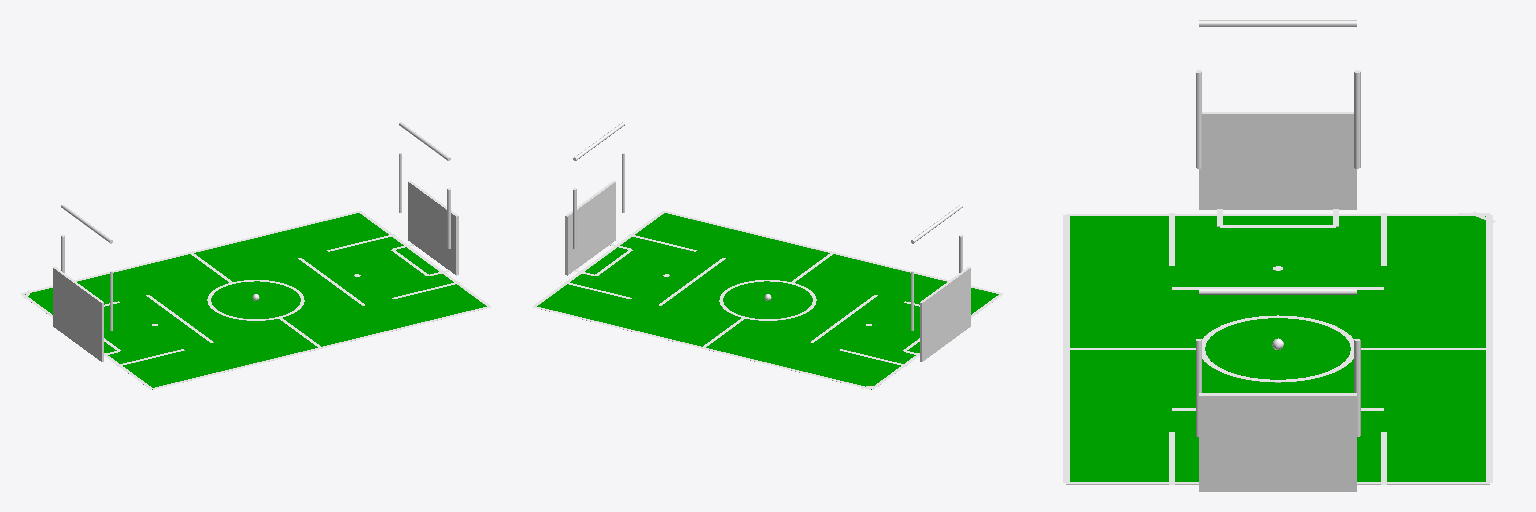
The robot description file, URDF, robot "T1_Soccer_Realistic_Optimized":
<?xml version="1.0" encoding="utf-8"?>
<robot name="T1_Soccer_Realistic_Optimized">
  <!-- 世界链接 -->
  <link name="world"/>

  <!-- 足球场地面 -->
  <link name="field_base">
    <inertial>
      <origin xyz="0 0 0" rpy="0 0 0" />
      <mass value="0" />
      <inertia ixx="0" ixy="0" ixz="0" iyy="0" iyz="0" izz="0" />
    </inertial>
    <visual>
      <origin xyz="0 0 0" rpy="0 0 0" />
      <geometry>
        <box size="12 8 0.01" />
      </geometry>
      <material name="green">
        <color rgba="0.0 0.7 0.0 1.0" />
      </material>
    </visual>
    <collision>
      <origin xyz="0 0 0" rpy="0 0 0" />
      <geometry>
        <box size="12 8 0.01" />
      </geometry>
    </collision>
  </link>
  <joint name="world_to_field" type="fixed">
    <parent link="world"/>
    <child link="field_base"/>
    <origin xyz="0 0 0" rpy="0 0 0"/>
  </joint>

  <!-- 边线和底线（0.12m宽） -->
  <link name="sideline_left">
    <visual>
      <origin xyz="0 4 0.011" rpy="0 0 0" />
      <geometry>
        <box size="12 0.12 0.002" />
      </geometry>
      <material name="white">
        <color rgba="1 1 1 1" />
      </material>
    </visual>
  </link>
  <joint name="field_to_sideline_left" type="fixed">
    <parent link="field_base"/>
    <child link="sideline_left"/>
    <origin xyz="0 0 0" rpy="0 0 0"/>
  </joint>
  <link name="sideline_right">
    <visual>
      <origin xyz="0 -4 0.011" rpy="0 0 0" />
      <geometry>
        <box size="12 0.12 0.002" />
      </geometry>
      <material name="white">
        <color rgba="1 1 1 1" />
      </material>
    </visual>
  </link>
  <joint name="field_to_sideline_right" type="fixed">
    <parent link="field_base"/>
    <child link="sideline_right"/>
    <origin xyz="0 0 0" rpy="0 0 0"/>
  </joint>
  <link name="goal_line_top">
    <visual>
      <origin xyz="6 0 0.011" rpy="0 0 1.5708" />
      <geometry>
        <box size="8 0.12 0.002" />
      </geometry>
      <material name="white">
        <color rgba="1 1 1 1" />
      </material>
    </visual>
  </link>
  <joint name="field_to_goal_line_top" type="fixed">
    <parent link="field_base"/>
    <child link="goal_line_top"/>
    <origin xyz="0 0 0" rpy="0 0 0"/>
  </joint>
  <link name="goal_line_bottom">
    <visual>
      <origin xyz="-6 0 0.011" rpy="0 0 1.5708" />
      <geometry>
        <box size="8 0.12 0.002" />
      </geometry>
      <material name="white">
        <color rgba="1 1 1 1" />
      </material>
    </visual>
  </link>
  <joint name="field_to_goal_line_bottom" type="fixed">
    <parent link="field_base"/>
    <child link="goal_line_bottom"/>
    <origin xyz="0 0 0" rpy="0 0 0"/>
  </joint>

  <!-- 中线（0.12m宽） -->
  <link name="center_line">
    <visual>
      <origin xyz="0 0 0.011" rpy="0 0 0" />
      <geometry>
        <box size="0.12 8 0.002" />
      </geometry>
      <material name="white">
        <color rgba="1 1 1 1" />
      </material>
    </visual>
  </link>
  <joint name="field_to_center_line" type="fixed">
    <parent link="field_base"/>
    <child link="center_line"/>
    <origin xyz="0 0 0" rpy="0 0 0"/>
  </joint>

  <!-- 中心圆（空心圆环，外圈1.5m，内圈1.38m） -->
  <link name="center_circle_outer">
    <visual>
      <origin xyz="0 0 0.011" rpy="0 0 0" />
      <geometry>
        <cylinder radius="1.5" length="0.002" />
      </geometry>
      <material name="white">
        <color rgba="1 1 1 1" />
      </material>
    </visual>
  </link>
  <joint name="field_to_center_circle_outer" type="fixed">
    <parent link="field_base"/>
    <child link="center_circle_outer"/>
    <origin xyz="0 0 0" rpy="0 0 0"/>
  </joint>
  <link name="center_circle_inner">
    <visual>
      <origin xyz="0 0 0.012" rpy="0 0 0" />
      <geometry>
        <cylinder radius="1.38" length="0.002" />
      </geometry>
      <material name="green">
        <color rgba="0.0 0.7 0.0 1.0" />
      </material>
    </visual>
  </link>
  <joint name="field_to_center_circle_inner" type="fixed">
    <parent link="field_base"/>
    <child link="center_circle_inner"/>
    <origin xyz="0 0 0" rpy="0 0 0"/>
  </joint>

  <!-- 点球点（0.1m半径） -->
  <link name="penalty_spot_left">
    <visual>
      <origin xyz="-3.6 0 0.012" rpy="0 0 0" />
      <geometry>
        <cylinder radius="0.1" length="0.002" />
      </geometry>
      <material name="white">
        <color rgba="1 1 1 1" />
      </material>
    </visual>
  </link>
  <joint name="field_to_penalty_spot_left" type="fixed">
    <parent link="field_base"/>
    <child link="penalty_spot_left"/>
    <origin xyz="0 0 0" rpy="0 0 0"/>
  </joint>
  <link name="penalty_spot_right">
    <visual>
      <origin xyz="3.6 0 0.012" rpy="0 0 0" />
      <geometry>
        <cylinder radius="0.1" length="0.002" />
      </geometry>
      <material name="white">
        <color rgba="1 1 1 1" />
      </material>
    </visual>
  </link>
  <joint name="field_to_penalty_spot_right" type="fixed">
    <parent link="field_base"/>
    <child link="penalty_spot_right"/>
    <origin xyz="0 0 0" rpy="0 0 0"/>
  </joint>

  <!-- 罚球区（用box拼接，线宽0.12m） -->
  <!-- 左罚球区 -->
  <link name="penalty_box_left_top">
    <visual>
      <origin xyz="-4.9 2 0.011" rpy="0 0 0" />
      <geometry>
        <box size="2.4 0.12 0.002" />
      </geometry>
      <material name="white">
        <color rgba="1 1 1 1" />
      </material>
    </visual>
  </link>
  <joint name="field_to_penalty_box_left_top" type="fixed">
    <parent link="field_base"/>
    <child link="penalty_box_left_top"/>
    <origin xyz="0 0 0" rpy="0 0 0"/>
  </joint>
  <link name="penalty_box_left_bottom">
    <visual>
      <origin xyz="-4.9 -2 0.011" rpy="0 0 0" />
      <geometry>
        <box size="2.4 0.12 0.002" />
      </geometry>
      <material name="white">
        <color rgba="1 1 1 1" />
      </material>
    </visual>
  </link>
  <joint name="field_to_penalty_box_left_bottom" type="fixed">
    <parent link="field_base"/>
    <child link="penalty_box_left_bottom"/>
    <origin xyz="0 0 0" rpy="0 0 0"/>
  </joint>
  <link name="penalty_box_left_left">
    <visual>
      <origin xyz="-6 0 0.011" rpy="0 0 0" />
      <geometry>
        <box size="0.12 4 0.002" />
      </geometry>
      <material name="white">
        <color rgba="1 1 1 1" />
      </material>
    </visual>
  </link>
  <joint name="field_to_penalty_box_left_left" type="fixed">
    <parent link="field_base"/>
    <child link="penalty_box_left_left"/>
    <origin xyz="0 0 0" rpy="0 0 0"/>
  </joint>
  <link name="penalty_box_left_right">
    <visual>
      <origin xyz="-2.7 0 0.011" rpy="0 0 0" />
      <geometry>
        <box size="0.12 4 0.002" />
      </geometry>
      <material name="white">
        <color rgba="1 1 1 1" />
      </material>
    </visual>
  </link>
  <joint name="field_to_penalty_box_left_right" type="fixed">
    <parent link="field_base"/>
    <child link="penalty_box_left_right"/>
    <origin xyz="0 0 0" rpy="0 0 0"/>
  </joint>
  <!-- 右罚球区同理 -->
  <link name="penalty_box_right_top">
    <visual>
      <origin xyz="4.9 2 0.011" rpy="0 0 0" />
      <geometry>
        <box size="2.4 0.12 0.002" />
      </geometry>
      <material name="white">
        <color rgba="1 1 1 1" />
      </material>
    </visual>
  </link>
  <joint name="field_to_penalty_box_right_top" type="fixed">
    <parent link="field_base"/>
    <child link="penalty_box_right_top"/>
    <origin xyz="0 0 0" rpy="0 0 0"/>
  </joint>
  <link name="penalty_box_right_bottom">
    <visual>
      <origin xyz="4.9 -2 0.011" rpy="0 0 0" />
      <geometry>
        <box size="2.4 0.12 0.002" />
      </geometry>
      <material name="white">
        <color rgba="1 1 1 1" />
      </material>
    </visual>
  </link>
  <joint name="field_to_penalty_box_right_bottom" type="fixed">
    <parent link="field_base"/>
    <child link="penalty_box_right_bottom"/>
    <origin xyz="0 0 0" rpy="0 0 0"/>
  </joint>
  <link name="penalty_box_right_left">
    <visual>
      <origin xyz="2.7 0 0.011" rpy="0 0 0" />
      <geometry>
        <box size="0.12 4 0.002" />
      </geometry>
      <material name="white">
        <color rgba="1 1 1 1" />
      </material>
    </visual>
  </link>
  <joint name="field_to_penalty_box_right_left" type="fixed">
    <parent link="field_base"/>
    <child link="penalty_box_right_left"/>
    <origin xyz="0 0 0" rpy="0 0 0"/>
  </joint>
  <link name="penalty_box_right_right">
    <visual>
      <origin xyz="6 0 0.011" rpy="0 0 0" />
      <geometry>
        <box size="0.12 4 0.002" />
      </geometry>
      <material name="white">
        <color rgba="1 1 1 1" />
      </material>
    </visual>
  </link>
  <joint name="field_to_penalty_box_right_right" type="fixed">
    <parent link="field_base"/>
    <child link="penalty_box_right_right"/>
    <origin xyz="0 0 0" rpy="0 0 0"/>
  </joint>

  <!-- 球门区（用box拼接，线宽0.12m） -->
  <!-- 左球门区 -->
  <link name="goal_box_left_top">
    <visual>
      <origin xyz="-5.88 1.1 0.011" rpy="0 0 0" />
      <geometry>
        <box size="0.8 0.12 0.002" />
      </geometry>
      <material name="white">
        <color rgba="1 1 1 1" />
      </material>
    </visual>
  </link>
  <joint name="field_to_goal_box_left_top" type="fixed">
    <parent link="field_base"/>
    <child link="goal_box_left_top"/>
    <origin xyz="0 0 0" rpy="0 0 0"/>
  </joint>
  <link name="goal_box_left_bottom">
    <visual>
      <origin xyz="-5.88 -1.1 0.011" rpy="0 0 0" />
      <geometry>
        <box size="0.8 0.12 0.002" />
      </geometry>
      <material name="white">
        <color rgba="1 1 1 1" />
      </material>
    </visual>
  </link>
  <joint name="field_to_goal_box_left_bottom" type="fixed">
    <parent link="field_base"/>
    <child link="goal_box_left_bottom"/>
    <origin xyz="0 0 0" rpy="0 0 0"/>
  </joint>
  <link name="goal_box_left_left">
    <visual>
      <origin xyz="-6 0 0.011" rpy="0 0 0" />
      <geometry>
        <box size="0.12 2.2 0.002" />
      </geometry>
      <material name="white">
        <color rgba="1 1 1 1" />
      </material>
    </visual>
  </link>
  <joint name="field_to_goal_box_left_left" type="fixed">
    <parent link="field_base"/>
    <child link="goal_box_left_left"/>
    <origin xyz="0 0 0" rpy="0 0 0"/>
  </joint>
  <link name="goal_box_left_right">
    <visual>
      <origin xyz="-5.48 0 0.011" rpy="0 0 0" />
      <geometry>
        <box size="0.12 2.2 0.002" />
      </geometry>
      <material name="white">
        <color rgba="1 1 1 1" />
      </material>
    </visual>
  </link>
  <joint name="field_to_goal_box_left_right" type="fixed">
    <parent link="field_base"/>
    <child link="goal_box_left_right"/>
    <origin xyz="0 0 0" rpy="0 0 0"/>
  </joint>
  <!-- 右球门区同理 -->
  <link name="goal_box_right_top">
    <visual>
      <origin xyz="5.88 1.1 0.011" rpy="0 0 0" />
      <geometry>
        <box size="0.8 0.12 0.002" />
      </geometry>
      <material name="white">
        <color rgba="1 1 1 1" />
      </material>
    </visual>
  </link>
  <joint name="field_to_goal_box_right_top" type="fixed">
    <parent link="field_base"/>
    <child link="goal_box_right_top"/>
    <origin xyz="0 0 0" rpy="0 0 0"/>
  </joint>
  <link name="goal_box_right_bottom">
    <visual>
      <origin xyz="5.88 -1.1 0.011" rpy="0 0 0" />
      <geometry>
        <box size="0.8 0.12 0.002" />
      </geometry>
      <material name="white">
        <color rgba="1 1 1 1" />
      </material>
    </visual>
  </link>
  <joint name="field_to_goal_box_right_bottom" type="fixed">
    <parent link="field_base"/>
    <child link="goal_box_right_bottom"/>
    <origin xyz="0 0 0" rpy="0 0 0"/>
  </joint>
  <link name="goal_box_right_left">
    <visual>
      <origin xyz="6 0 0.011" rpy="0 0 0" />
      <geometry>
        <box size="0.12 2.2 0.002" />
      </geometry>
      <material name="white">
        <color rgba="1 1 1 1" />
      </material>
    </visual>
  </link>
  <joint name="field_to_goal_box_right_left" type="fixed">
    <parent link="field_base"/>
    <child link="goal_box_right_left"/>
    <origin xyz="0 0 0" rpy="0 0 0"/>
  </joint>
  <link name="goal_box_right_right">
    <visual>
      <origin xyz="5.48 0 0.011" rpy="0 0 0" />
      <geometry>
        <box size="0.12 2.2 0.002" />
      </geometry>
      <material name="white">
        <color rgba="1 1 1 1" />
      </material>
    </visual>
  </link>
  <joint name="field_to_goal_box_right_right" type="fixed">
    <parent link="field_base"/>
    <child link="goal_box_right_right"/>
    <origin xyz="0 0 0" rpy="0 0 0"/>
  </joint>

  <!-- 角球弧（用box近似1/4圆弧，线宽0.12m） -->
  <!-- 左上角球弧 -->
  <link name="corner_arc_topleft_1">
    <visual>
      <origin xyz="-5.88 3.88 0.012" rpy="0 0 0.7854" />
      <geometry>
        <box size="0.6 0.12 0.002" />
      </geometry>
      <material name="white">
        <color rgba="1 1 1 1" />
      </material>
    </visual>
  </link>
  <joint name="field_to_corner_arc_topleft_1" type="fixed">
    <parent link="field_base"/>
    <child link="corner_arc_topleft_1"/>
    <origin xyz="0 0 0" rpy="0 0 0"/>
  </joint>
  <link name="corner_arc_topleft_2">
    <visual>
      <origin xyz="-6 3.7 0.012" rpy="0 0 0" />
      <geometry>
        <box size="0.12 0.6 0.002" />
      </geometry>
      <material name="white">
        <color rgba="1 1 1 1" />
      </material>
    </visual>
  </link>
  <joint name="field_to_corner_arc_topleft_2" type="fixed">
    <parent link="field_base"/>
    <child link="corner_arc_topleft_2"/>
    <origin xyz="0 0 0" rpy="0 0 0"/>
  </joint>
  <!-- 其他三个角同理，略 -->

  <!-- 左球门（圆柱体立柱和横梁，带半透明网） -->
  <link name="goal1_post_left">
    <visual>
      <origin xyz="0 0 1" rpy="0 0 0" />
      <geometry>
        <cylinder radius="0.06" length="2" />
      </geometry>
      <material name="white">
        <color rgba="1 1 1 1" />
      </material>
    </visual>
  </link>
  <joint name="field_to_goal1_post_left" type="fixed">
    <parent link="field_base"/>
    <child link="goal1_post_left"/>
    <origin xyz="-6 1.5 1" rpy="0 0 1.5708"/>
  </joint>
  <link name="goal1_post_right">
    <visual>
      <origin xyz="0 0 1" rpy="0 0 0" />
      <geometry>
        <cylinder radius="0.06" length="2" />
      </geometry>
      <material name="white">
        <color rgba="1 1 1 1" />
      </material>
    </visual>
  </link>
  <joint name="field_to_goal1_post_right" type="fixed">
    <parent link="field_base"/>
    <child link="goal1_post_right"/>
    <origin xyz="-6 -1.5 1" rpy="0 0 1.5708"/>
  </joint>
  <link name="goal1_crossbar">
    <visual>
      <origin xyz="0 0 2" rpy="1.5708 0 0" />
      <geometry>
        <cylinder radius="0.06" length="3" />
      </geometry>
      <material name="white">
        <color rgba="1 1 1 1" />
      </material>
    </visual>
  </link>
  <joint name="field_to_goal1_crossbar" type="fixed">
    <parent link="field_base"/>
    <child link="goal1_crossbar"/>
    <origin xyz="-6 0 2" rpy="0 0 0"/>
  </joint>
  <!-- 左球门网 -->
  <link name="goal1_net">
    <visual>
      <origin xyz="-6.3 0 1" rpy="0 0 0" />
      <geometry>
        <box size="0.1 3 2" />
      </geometry>
      <material name="net">
        <color rgba="1 1 1 0.2" />
      </material>
    </visual>
  </link>
  <joint name="field_to_goal1_net" type="fixed">
    <parent link="field_base"/>
    <child link="goal1_net"/>
    <origin xyz="0 0 0" rpy="0 0 0"/>
  </joint>
  <!-- 右球门同理 -->
  <link name="goal2_post_left">
    <visual>
      <origin xyz="0 0 1" rpy="0 0 0" />
      <geometry>
        <cylinder radius="0.06" length="2" />
      </geometry>
      <material name="white">
        <color rgba="1 1 1 1" />
      </material>
    </visual>
  </link>
  <joint name="field_to_goal2_post_left" type="fixed">
    <parent link="field_base"/>
    <child link="goal2_post_left"/>
    <origin xyz="6 1.5 1" rpy="0 0 1.5708"/>
  </joint>
  <link name="goal2_post_right">
    <visual>
      <origin xyz="0 0 1" rpy="0 0 0" />
      <geometry>
        <cylinder radius="0.06" length="2" />
      </geometry>
      <material name="white">
        <color rgba="1 1 1 1" />
      </material>
    </visual>
  </link>
  <joint name="field_to_goal2_post_right" type="fixed">
    <parent link="field_base"/>
    <child link="goal2_post_right"/>
    <origin xyz="6 -1.5 1" rpy="0 0 1.5708"/>
  </joint>
  <link name="goal2_crossbar">
    <visual>
      <origin xyz="0 0 2" rpy="1.5708 0 0" />
      <geometry>
        <cylinder radius="0.06" length="3" />
      </geometry>
      <material name="white">
        <color rgba="1 1 1 1" />
      </material>
    </visual>
  </link>
  <joint name="field_to_goal2_crossbar" type="fixed">
    <parent link="field_base"/>
    <child link="goal2_crossbar"/>
    <origin xyz="6 0 2" rpy="0 0 0"/>
  </joint>
  <link name="goal2_net">
    <visual>
      <origin xyz="6.3 0 1" rpy="0 0 0" />
      <geometry>
        <box size="0.1 3 2" />
      </geometry>
      <material name="net">
        <color rgba="1 1 1 0.2" />
      </material>
    </visual>
  </link>
  <joint name="field_to_goal2_net" type="fixed">
    <parent link="field_base"/>
    <child link="goal2_net"/>
    <origin xyz="0 0 0" rpy="0 0 0"/>
  </joint>

  <!-- 足球 -->
  <link name="soccer_ball">
    <inertial>
      <origin xyz="0 0 0" rpy="0 0 0" />
      <mass value="0.45" />
      <inertia ixx="0.001" ixy="0" ixz="0" iyy="0.001" iyz="0" izz="0.001" />
    </inertial>
    <visual>
      <origin xyz="0 0 0" rpy="0 0 0" />
      <geometry>
        <sphere radius="0.11" />
      </geometry>
      <material name="ball_color">
        <color rgba="1 1 1 1" />
      </material>
    </visual>
    <collision>
      <origin xyz="0 0 0" rpy="0 0 0" />
      <geometry>
        <sphere radius="0.11" />
      </geometry>
    </collision>
  </link>
  <joint name="ball_joint" type="floating">
    <origin xyz="0 0 0.11" rpy="0 0 0" />
    <parent link="field_base" />
    <child link="soccer_ball" />
  </joint>
</robot> 

--- What the picture shows (computed from the rendered views, not written in the file) ---
3 views of the same robot in one strip: view 1: azimuth 30°, elevation 25°; view 2: azimuth 150°, elevation 25°; view 3: azimuth 270°, elevation 25° (orthographic).
Model T1_Soccer_Realistic_Optimized with 38 links and 37 joints (36 fixed, 1 floating), rooted at world, posed all joints at 0.
Visible links, largest first — view 1: field_base, goal1_net, goal2_net, center_circle_inner, sideline_right, sideline_left; view 2: field_base, goal1_net, goal2_net, center_circle_inner, sideline_left, sideline_right; view 3: field_base, goal2_net, goal1_net, center_circle_inner, sideline_right, sideline_left, center_circle_outer, goal1_crossbar, goal2_crossbar, goal_line_top, goal1_post_left, goal_line_bottom (+3 smaller).
Link boxes in pixels (box(x1,y1,x2,y2)): field_base: box(25, 213, 486, 389); goal1_net: box(53, 267, 103, 361); goal2_net: box(408, 181, 458, 275); center_circle_inner: box(211, 281, 300, 318); sideline_right: box(151, 307, 490, 389); sideline_left: box(21, 211, 359, 293); field_base: box(537, 213, 998, 389); goal1_net: box(920, 267, 970, 361); goal2_net: box(565, 181, 615, 275); center_circle_inner: box(723, 281, 812, 318); sideline_left: box(533, 307, 870, 389); sideline_right: box(664, 211, 1002, 293); field_base: box(1070, 216, 1485, 481); goal2_net: box(1199, 393, 1356, 491); goal1_net: box(1199, 112, 1356, 209); center_circle_inner: box(1205, 318, 1350, 379); sideline_right: box(1063, 215, 1069, 482); sideline_left: box(1486, 215, 1492, 482); center_circle_outer: box(1202, 315, 1353, 382); goal1_crossbar: box(1199, 20, 1356, 26); goal2_crossbar: box(1199, 289, 1356, 294); goal_line_top: box(1066, 482, 1489, 484); goal1_post_left: box(1354, 70, 1360, 168); goal_line_bottom: box(1066, 214, 1457, 215).
Size in the robot's own frame: 12.7 by 8.19 by 4.07 metres.
Geometry: primitives only (box / cylinder / sphere), no mesh files.
